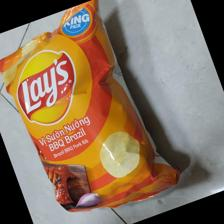Lays: (1, 1, 181, 211)
